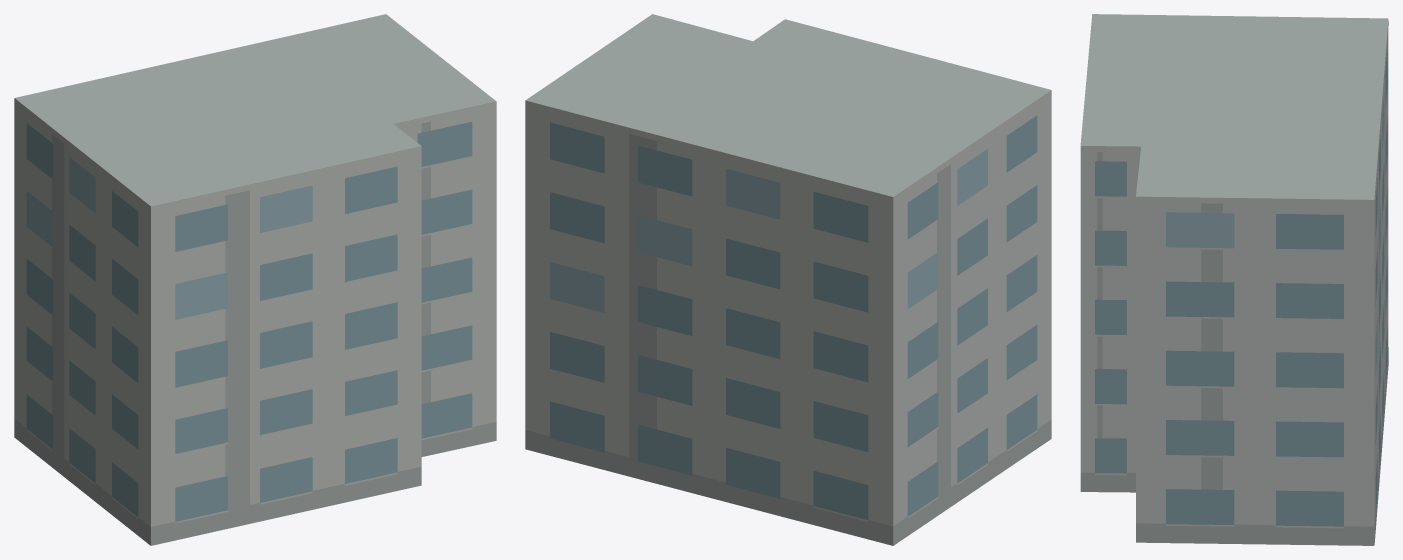
Rendered from survey-upis-32502201.glb.
3 views of the same model, side by side, from view 1: azimuth 30°, elevation 25°; view 2: azimuth 150°, elevation 25°; view 3: azimuth 270°, elevation 25° (orthographic). The views are drawn at different scales.
Parts seen in each view (by area): view 1: survey-upis-32502201.tmp; view 2: survey-upis-32502201.tmp; view 3: survey-upis-32502201.tmp.
Part boxes in pixels (box(x1,y1,x2,y2)): survey-upis-32502201.tmp: box(14, 14, 496, 545); survey-upis-32502201.tmp: box(525, 14, 1051, 545); survey-upis-32502201.tmp: box(1080, 14, 1388, 545).
Size of the model in its own units: 16.37 by 14.2 by 11.47.
